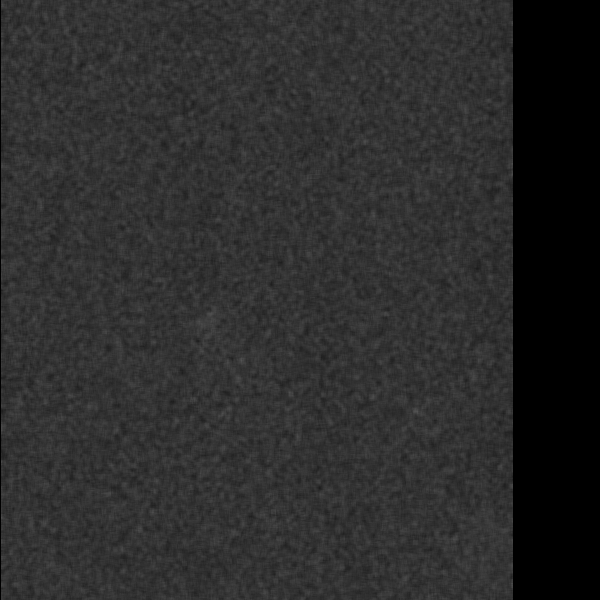spark: (199, 309, 222, 346)
